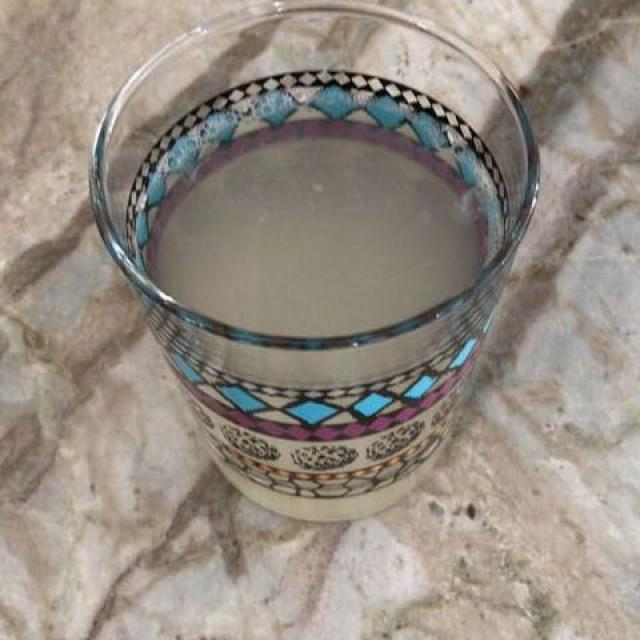water-with-lemon-juice: (142, 114, 481, 342)
